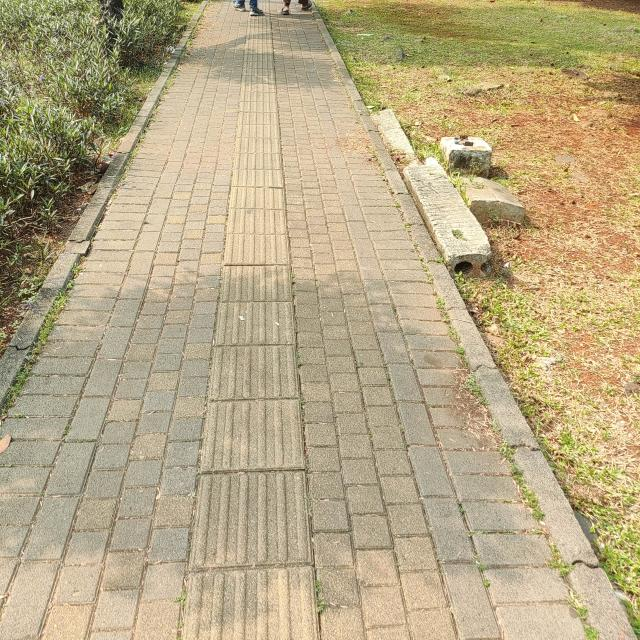lurus: (198, 17, 306, 640)
